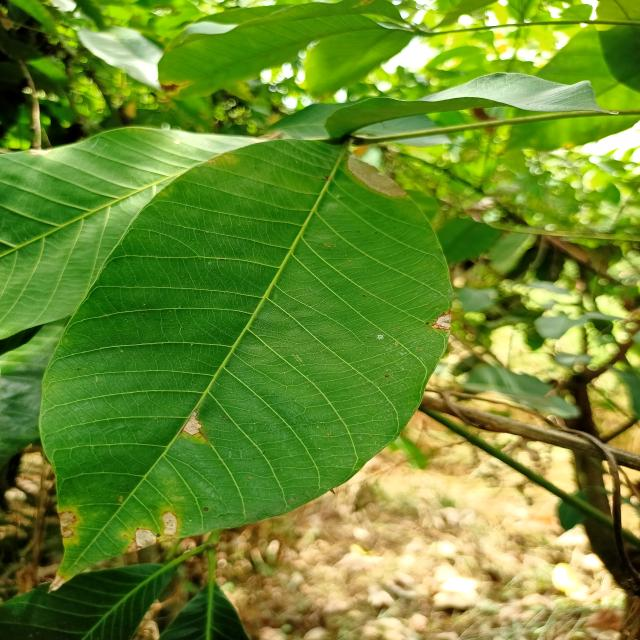Colletotrichum: (204, 507, 209, 511), (156, 533, 161, 537), (362, 294, 366, 298), (385, 374, 389, 378), (444, 320, 448, 323)
Corynespora: (198, 429, 208, 441)
Leaf-Blight: (347, 154, 408, 197), (127, 527, 157, 553), (58, 509, 77, 538), (182, 410, 202, 435), (48, 573, 67, 593), (162, 511, 177, 535), (436, 314, 454, 329)
